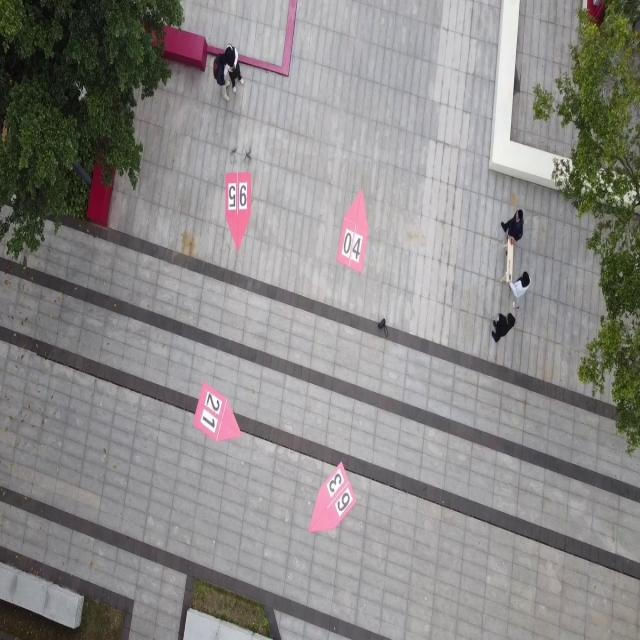-sign-: (192, 380, 250, 449), (308, 462, 360, 538), (336, 190, 372, 278), (224, 166, 256, 259)
